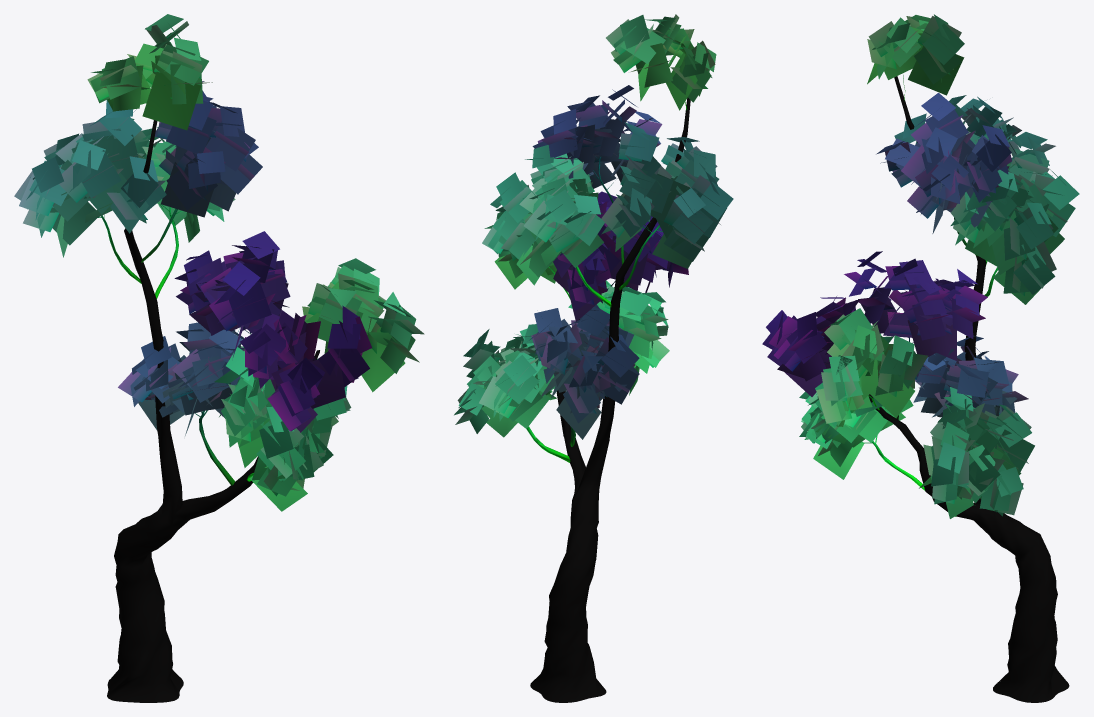
The model's file is Tree_5.fbx.
3 renders of one model, left to right at view 1: azimuth 30°, elevation 25°; view 2: azimuth 150°, elevation 25°; view 3: azimuth 270°, elevation 25°, orthographic. The views are drawn at different scales.
Parts seen in each view (by area): view 1: Tree_2, Tree_0; view 2: Tree_2, Tree_0; view 3: Tree_2, Tree_0.
Part boxes in pixels (x1=…): Tree_2: x1=14, y1=14, x2=424, y2=511; Tree_0: x1=98, y1=120, x2=319, y2=702; Tree_2: x1=454, y1=14, x2=733, y2=439; Tree_0: x1=505, y1=97, x2=690, y2=702; Tree_2: x1=762, y1=14, x2=1079, y2=518; Tree_0: x1=824, y1=75, x2=1069, y2=702.
Bounding box in the file's own units: 426 × 918 × 401.
